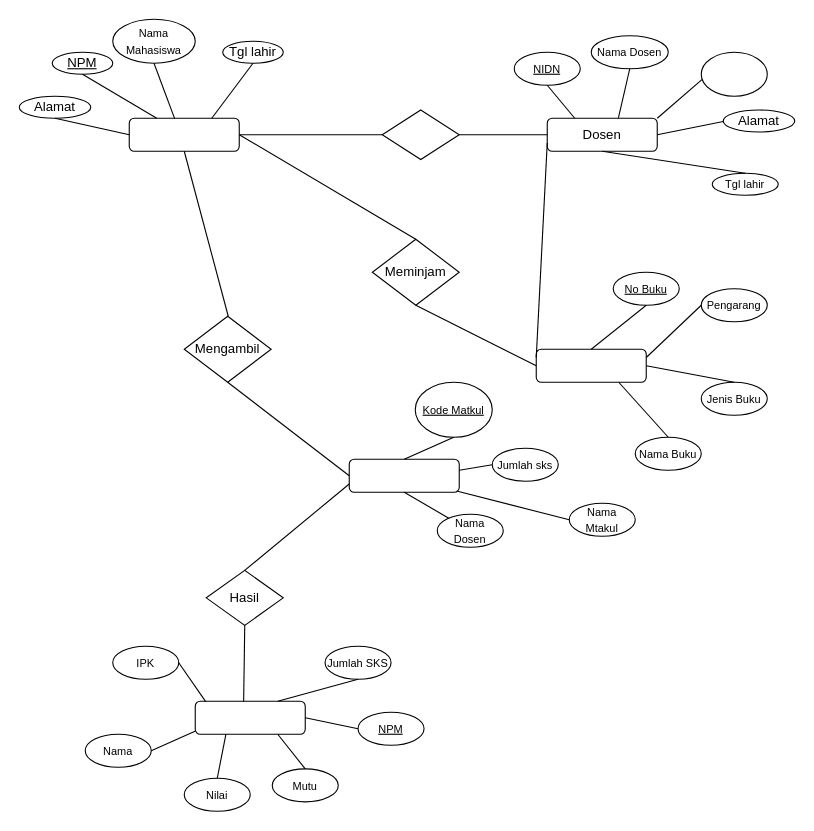
This 814x831 diagram has some shape labels left out. Each missing label, with the centre of its shape:
Dibimbing: pixel 420 134
jenis kelamin: pixel 733 73
KHS: pixel 249 717
Mahasiswa: pixel 183 134
Matkul: pixel 403 475
Perpustakaan: pixel 590 365
